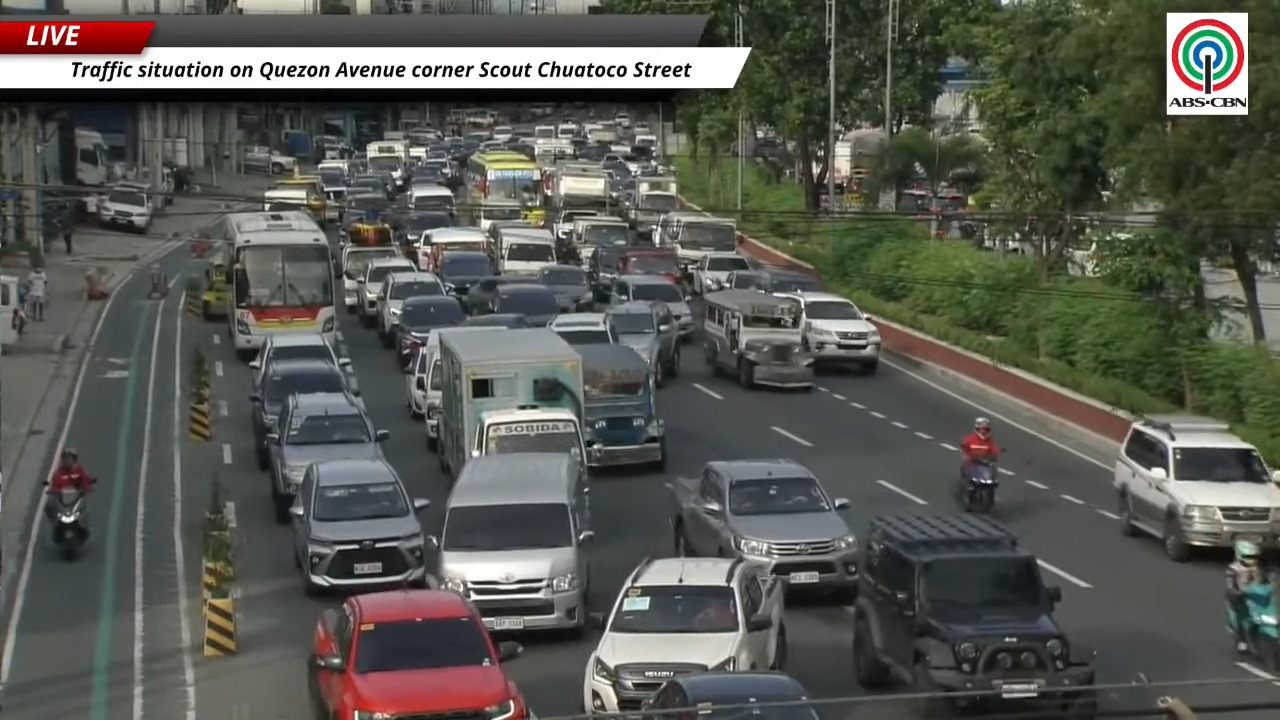bus: (210, 212, 336, 358), (465, 150, 544, 225)
car: (852, 514, 1096, 717), (583, 559, 786, 712), (427, 452, 593, 633), (307, 589, 531, 719), (669, 459, 857, 598), (1114, 414, 1279, 561), (287, 455, 432, 594), (266, 393, 388, 523), (250, 359, 357, 470), (774, 291, 881, 374), (641, 671, 819, 719), (605, 301, 680, 385), (249, 334, 350, 390), (610, 274, 694, 340), (375, 271, 445, 348), (397, 295, 465, 367), (405, 332, 441, 451), (357, 256, 416, 327), (488, 282, 558, 326), (436, 251, 495, 298), (460, 275, 527, 315), (538, 265, 593, 312), (691, 252, 751, 294), (97, 187, 153, 232), (584, 244, 626, 302), (548, 313, 616, 345), (403, 211, 453, 245), (241, 146, 297, 174), (763, 268, 823, 292), (462, 313, 530, 328), (722, 270, 768, 290)
motorcycle: (1226, 579, 1279, 670), (48, 488, 88, 561), (959, 460, 998, 513)
truck: (438, 328, 586, 477), (576, 344, 666, 472), (625, 176, 680, 234), (552, 167, 609, 207), (74, 127, 110, 186)
